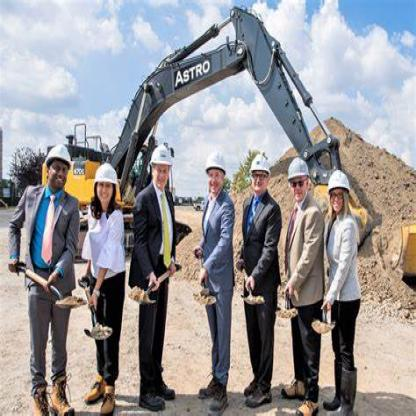person: (8, 137, 82, 414), (131, 124, 176, 408), (195, 134, 240, 412), (77, 144, 122, 412), (282, 152, 326, 415), (323, 150, 364, 414), (253, 146, 285, 414)
